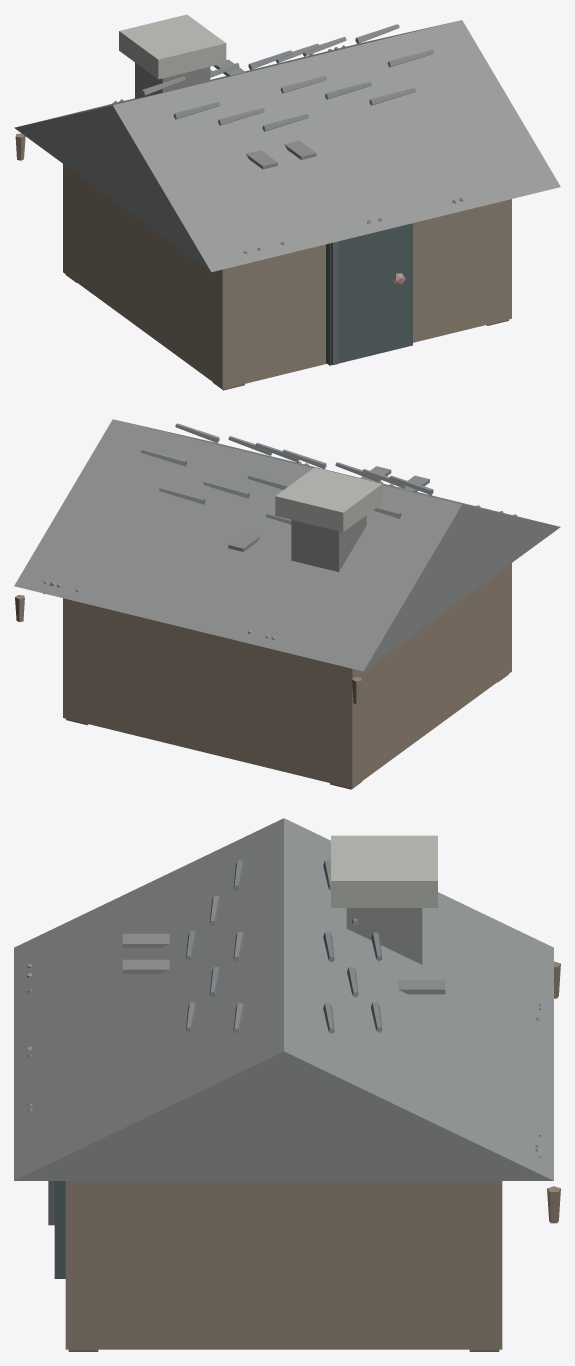
The model's file is hunter_hideout.glb.
3 views of the same model, one above another, from view 1: azimuth 30°, elevation 25°; view 2: azimuth 150°, elevation 25°; view 3: azimuth 270°, elevation 25° (orthographic). The views are drawn at different scales.
Visible parts, largest first — view 1: hunter_hideout_material_05, hunter_hideout_material_00, hunter_hideout_material_02, hunter_hideout_material_08, hunter_hideout_material_06, hunter_hideout_material_07, hunter_hideout_material_03; view 2: hunter_hideout_material_05, hunter_hideout_material_00, hunter_hideout_material_08, hunter_hideout_material_06, hunter_hideout_material_07; view 3: hunter_hideout_material_05, hunter_hideout_material_00, hunter_hideout_material_08, hunter_hideout_material_06, hunter_hideout_material_07, hunter_hideout_material_02.
Boxes of the visible parts, bbox=[...] form: hunter_hideout_material_05: bbox=[14, 20, 560, 272]; hunter_hideout_material_00: bbox=[15, 133, 511, 388]; hunter_hideout_material_02: bbox=[326, 223, 412, 365]; hunter_hideout_material_08: bbox=[119, 14, 226, 79]; hunter_hideout_material_06: bbox=[112, 45, 463, 254]; hunter_hideout_material_07: bbox=[173, 50, 371, 131]; hunter_hideout_material_03: bbox=[330, 241, 338, 364]; hunter_hideout_material_05: bbox=[14, 419, 560, 671]; hunter_hideout_material_00: bbox=[15, 563, 511, 788]; hunter_hideout_material_08: bbox=[275, 467, 382, 532]; hunter_hideout_material_06: bbox=[43, 436, 516, 639]; hunter_hideout_material_07: bbox=[247, 443, 433, 524]; hunter_hideout_material_05: bbox=[14, 818, 553, 1180]; hunter_hideout_material_00: bbox=[65, 961, 560, 1349]; hunter_hideout_material_08: bbox=[331, 835, 437, 907]; hunter_hideout_material_06: bbox=[27, 860, 540, 1157]; hunter_hideout_material_07: bbox=[185, 860, 382, 997]; hunter_hideout_material_02: bbox=[54, 1181, 65, 1278].
Bounding box in the file's own units: 2.78 × 1.92 × 2.76.
